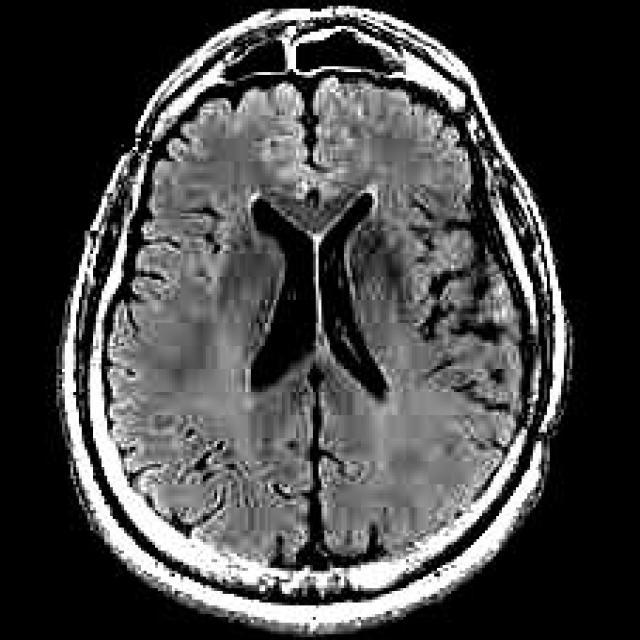notumor: (56, 6, 575, 634)
